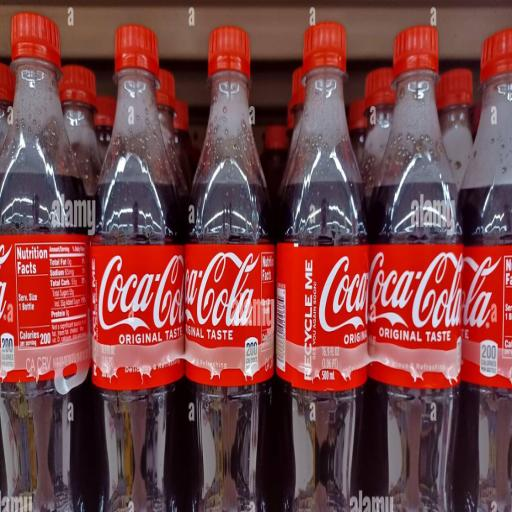coca_cola: (364, 25, 462, 509), (0, 13, 94, 511), (276, 23, 369, 509), (91, 41, 184, 511), (454, 29, 512, 511), (59, 66, 101, 198), (361, 68, 394, 205), (156, 68, 188, 203), (418, 71, 500, 99), (209, 26, 250, 77), (436, 69, 472, 109), (265, 125, 287, 152), (95, 96, 116, 124), (276, 157, 297, 160), (170, 122, 176, 131), (183, 127, 186, 131)
goodday: (0, 55, 86, 263), (0, 349, 85, 511)
